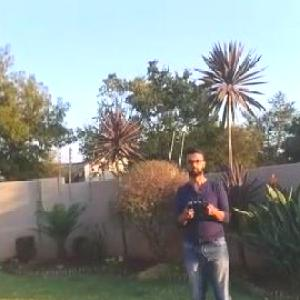follow: (170, 142, 239, 299)
